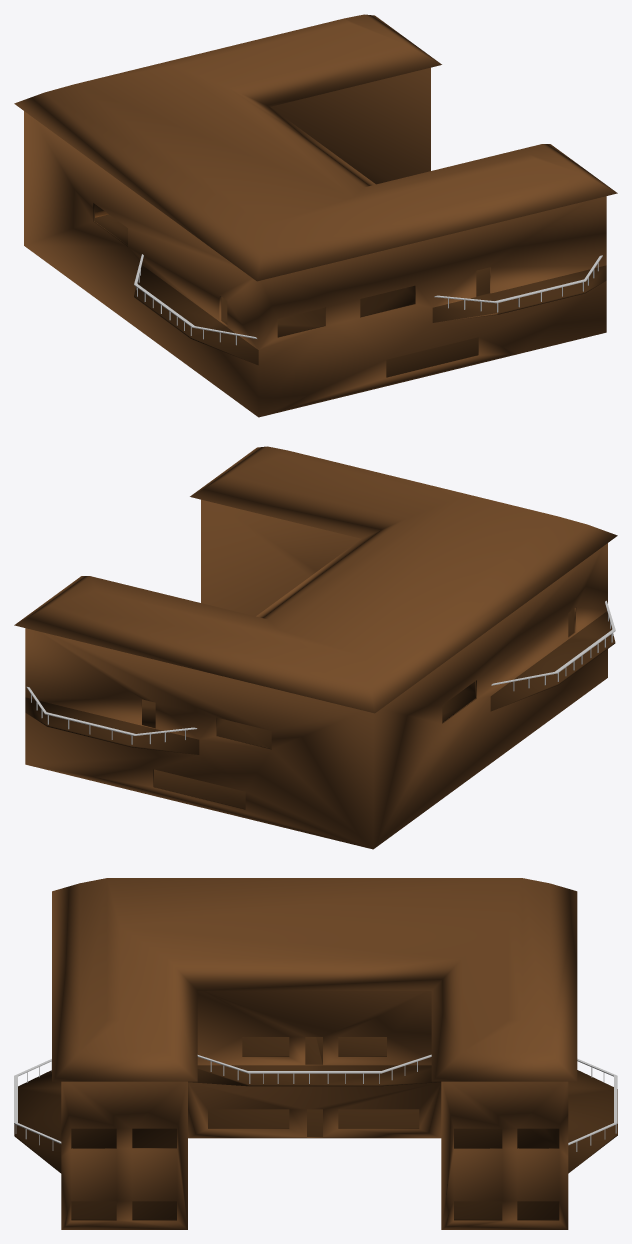
File: Inn.fbx
3 views of the same model, one above another, from view 1: azimuth 30°, elevation 25°; view 2: azimuth 150°, elevation 25°; view 3: azimuth 270°, elevation 25° (orthographic). The views are drawn at different scales.
Parts seen in each view (by area): view 1: Cube; view 2: Cube; view 3: Cube.
Part boxes in pixels (box(x1,y1,x2,y2)): Cube: box(14, 14, 617, 417); Cube: box(14, 446, 617, 849); Cube: box(14, 878, 617, 1229).
Size of the model in its own units: 15771 by 6526 by 19438.
